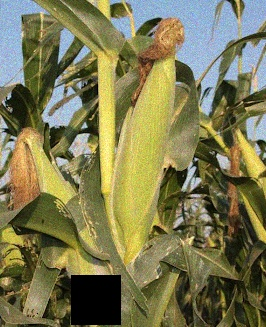corn_plant: (7, 125, 116, 327), (111, 13, 188, 260)
